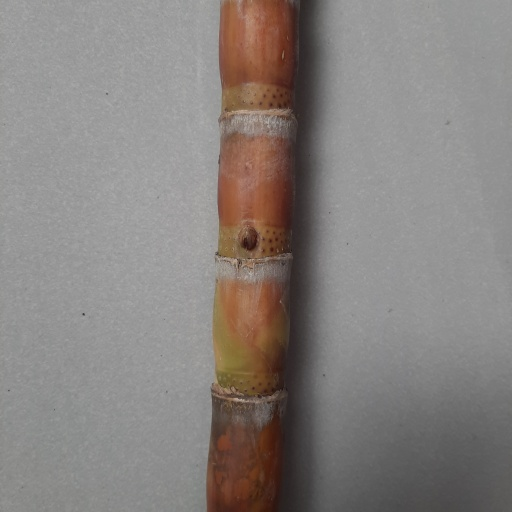Bud: (236, 225, 260, 253)
